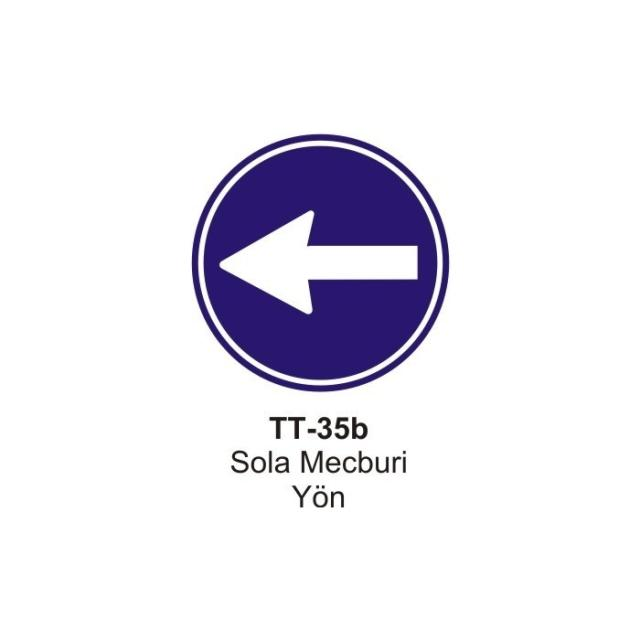SensObligatoire: (190, 132, 453, 395)
